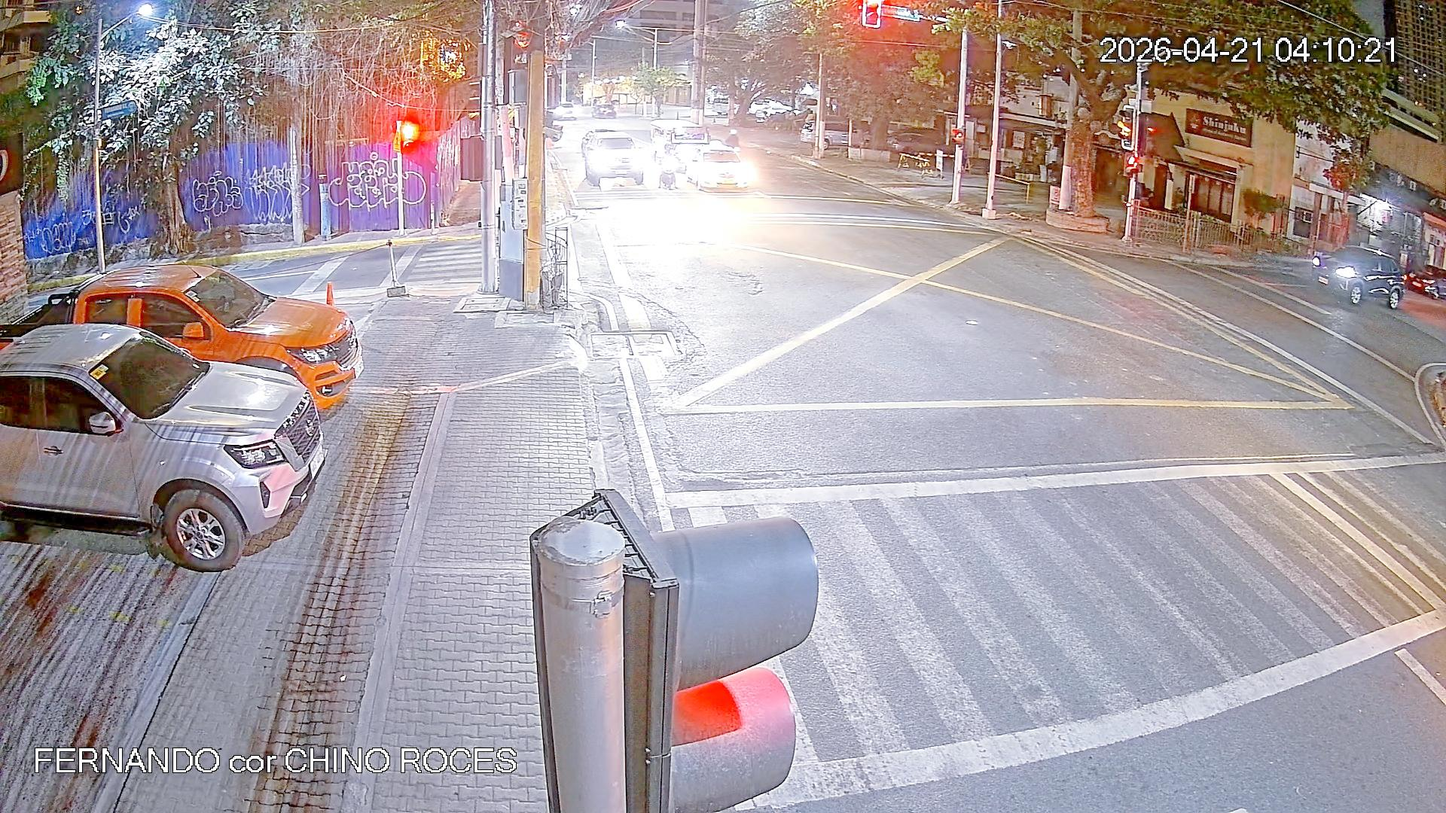Car: (0, 307, 318, 592), (62, 259, 383, 432), (1295, 238, 1418, 322), (685, 142, 761, 207), (581, 120, 636, 202), (803, 118, 866, 158), (696, 82, 751, 127)
Motor: (651, 148, 685, 200)
